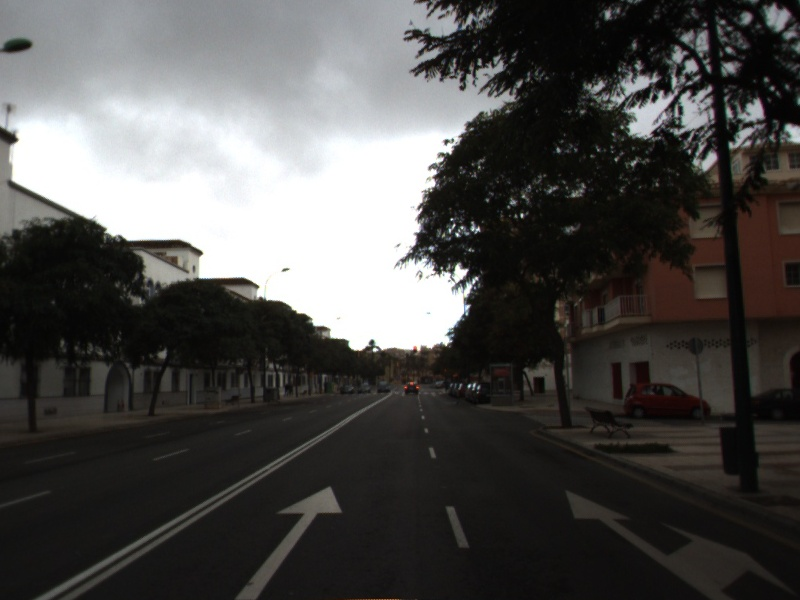STRAIGHT: (235, 484, 344, 600)
STRAIGHT_RIGHT: (563, 487, 800, 600)
